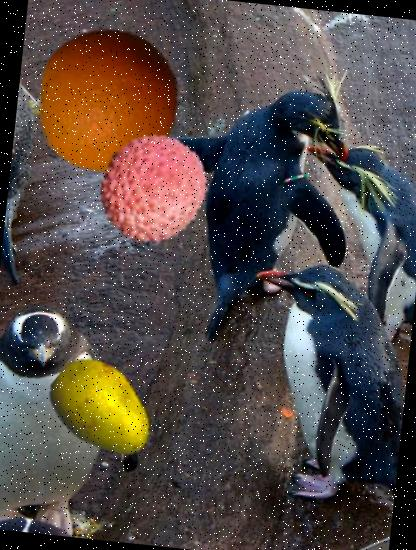Lychee: (90, 128, 216, 254)
Orange: (27, 19, 190, 182)
Pear: (41, 348, 166, 472)
